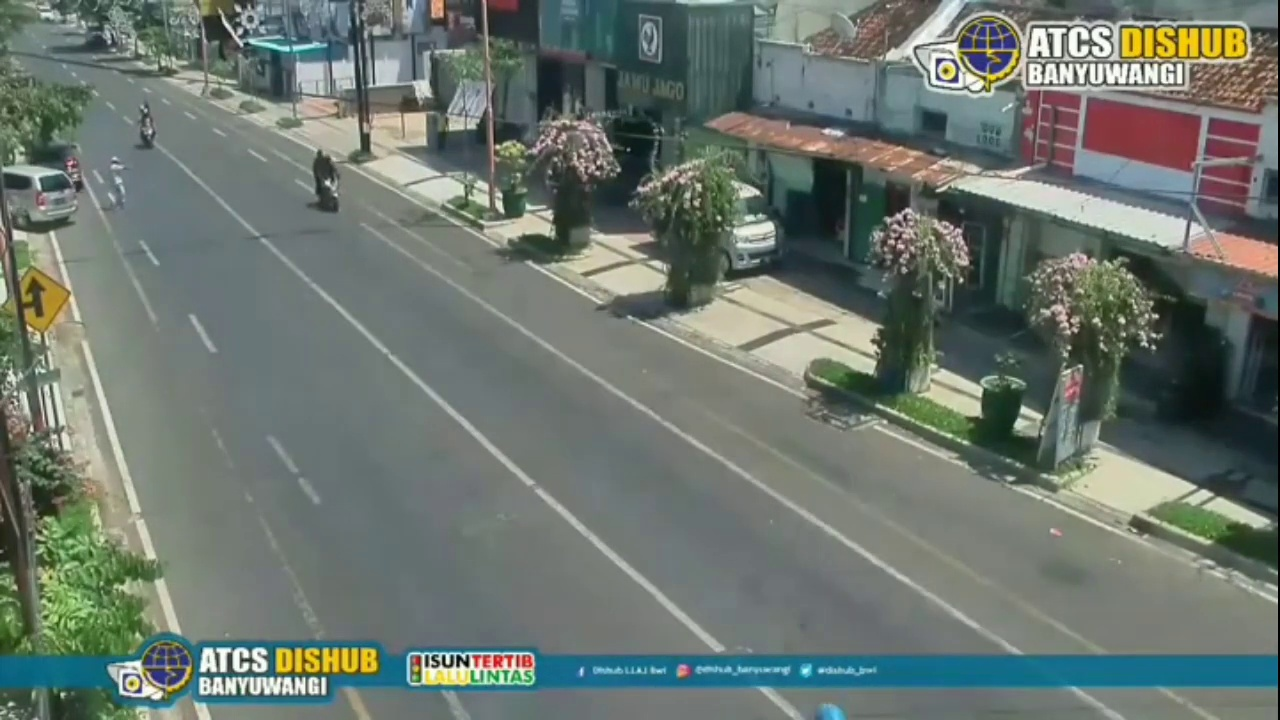car: (719, 184, 787, 279), (1, 166, 76, 230)
motorbike: (315, 150, 341, 212), (137, 102, 157, 143)
